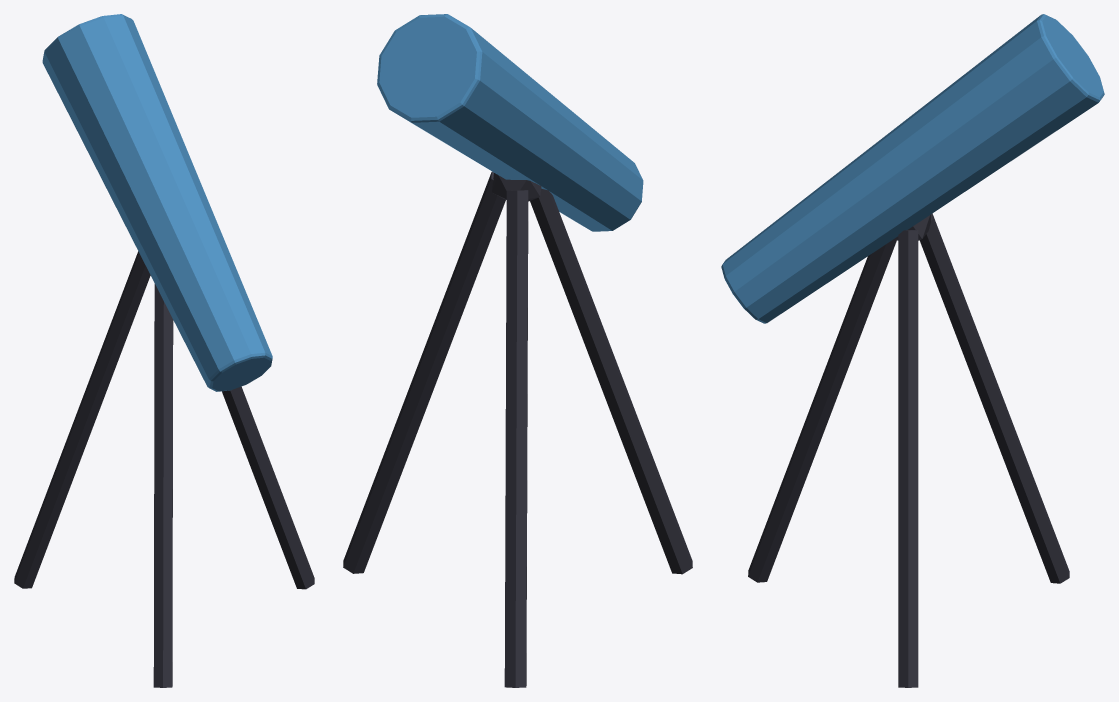
The model's file is kinh-thien-van.glb.
3 renders of one model, left to right at view 1: azimuth 30°, elevation 25°; view 2: azimuth 150°, elevation 25°; view 3: azimuth 270°, elevation 25°, orthographic. The views are drawn at different scales.
Parts seen in each view (by area): view 1: kinh-thien-van-4, kinh-thien-van-1, kinh-thien-van-2, kinh-thien-van-0; view 2: kinh-thien-van-4, kinh-thien-van-2, kinh-thien-van-0, kinh-thien-van-1, kinh-thien-van-3; view 3: kinh-thien-van-4, kinh-thien-van-0, kinh-thien-van-2, kinh-thien-van-1.
Part boxes in pixels (x1,y1,x2,y2): kinh-thien-van-4: (42,14,272,391); kinh-thien-van-1: (153,284,173,687); kinh-thien-van-2: (14,251,150,588); kinh-thien-van-0: (222,386,314,589); kinh-thien-van-4: (377,14,643,231); kinh-thien-van-2: (504,190,528,687); kinh-thien-van-0: (343,171,505,573); kinh-thien-van-1: (530,188,692,574); kinh-thien-van-3: (492,173,541,201); kinh-thien-van-4: (721,14,1104,323); kinh-thien-van-0: (898,230,918,687); kinh-thien-van-2: (919,213,1069,583); kinh-thien-van-1: (748,239,896,582).
Size of the model in its own units: 0.7435 by 1.72 by 1.
